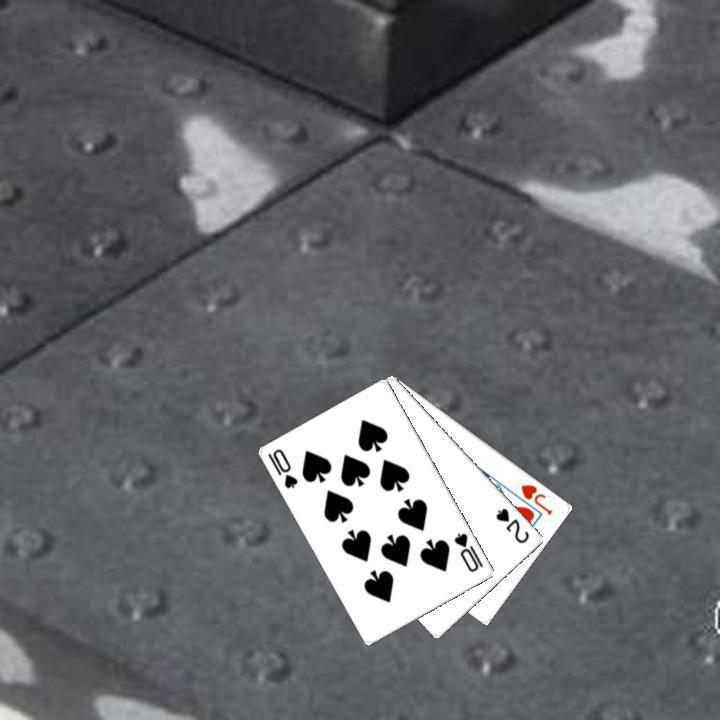10: (264, 444, 300, 491), (450, 528, 486, 574)
2: (492, 504, 532, 545)
J: (517, 480, 555, 517)
